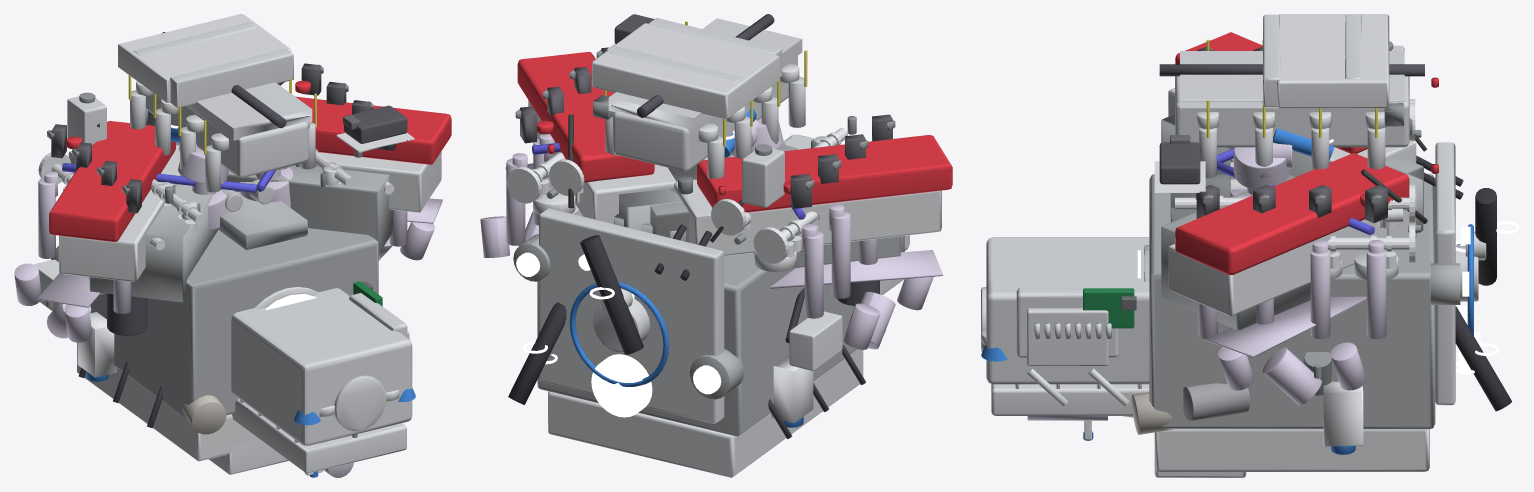
Rendered from powertrain_v8tt_dct7_complete.glb.
The picture shows the model from 3 angles, left to right: view 1: azimuth 30°, elevation 25°; view 2: azimuth 150°, elevation 25°; view 3: azimuth 270°, elevation 25°; orthographic projection. The views are drawn at different scales.
Parts seen in each view (by area): view 1: Engine_V8_Block, DCT_Gearbox_Case, Engine_V8_IntakeManifold, Engine_V8_Intercooler, Engine_V8_ValveCover_L, Engine_V8_ValveCover_R, Engine_V8_OilPan, Engine_V8_ExhaustHeader_L, Engine_V8_CylinderHead_L, Engine_V8_WiringHarness, Engine_V8_CylinderHead_R, DCT_Differential_Assembly (+10 smaller); view 2: Engine_V8_TimingCover_Accessories, Engine_V8_Block, Engine_V8_Intercooler, Engine_V8_ValveCover_L, Engine_V8_IntakeManifold, Engine_V8_OilPan, Engine_V8_ExhaustHeader_L, Engine_V8_ValveCover_R, Engine_V8_CylinderHead_L, Engine_V8_CoolantSystem, Engine_V8_Valvetrain, Engine_V8_DrySumpSystem (+7 smaller); view 3: Engine_V8_Block, DCT_Gearbox_Case, Engine_V8_IntakeManifold, Engine_V8_ValveCover_R, Engine_V8_ExhaustHeader_R, Engine_V8_Intercooler, Engine_V8_OilPan, Engine_V8_CylinderHead_R, Engine_V8_TimingCover_Accessories, DCT_Mechatronics_Unit, Engine_V8_WiringHarness, Engine_V8_CoolantSystem (+10 smaller).
Boxes of the visible parts, x1,y1,x2,y2 form: Engine_V8_Block: (89, 142, 392, 418); DCT_Gearbox_Case: (231, 288, 412, 473); Engine_V8_IntakeManifold: (130, 81, 315, 192); Engine_V8_Intercooler: (118, 14, 293, 107); Engine_V8_ValveCover_L: (47, 121, 175, 241); Engine_V8_ValveCover_R: (295, 63, 451, 164); Engine_V8_OilPan: (77, 342, 288, 474); Engine_V8_ExhaustHeader_L: (14, 178, 131, 342); Engine_V8_CylinderHead_L: (44, 145, 197, 282); Engine_V8_WiringHarness: (128, 32, 414, 154); Engine_V8_CylinderHead_R: (315, 151, 441, 212); DCT_Differential_Assembly: (294, 375, 415, 431); Engine_V8_TimingCover_Accessories: (513, 208, 743, 423); Engine_V8_Block: (537, 144, 900, 436); Engine_V8_Intercooler: (592, 18, 782, 119); Engine_V8_ValveCover_L: (697, 114, 952, 212); Engine_V8_IntakeManifold: (593, 18, 805, 178); Engine_V8_OilPan: (548, 349, 863, 477); Engine_V8_ExhaustHeader_L: (770, 211, 942, 349); Engine_V8_ValveCover_R: (515, 47, 654, 182); Engine_V8_CylinderHead_L: (674, 136, 941, 271); Engine_V8_CoolantSystem: (508, 144, 784, 404); Engine_V8_Valvetrain: (506, 128, 847, 263); Engine_V8_DrySumpSystem: (768, 280, 879, 439); Engine_V8_Block: (1149, 114, 1435, 429); DCT_Gearbox_Case: (986, 237, 1149, 415); Engine_V8_IntakeManifold: (1175, 51, 1409, 178); Engine_V8_ValveCover_R: (1175, 153, 1409, 274); Engine_V8_ExhaustHeader_R: (1198, 250, 1386, 405); Engine_V8_Intercooler: (1263, 14, 1389, 108); Engine_V8_OilPan: (1154, 429, 1429, 477); Engine_V8_CylinderHead_R: (1168, 194, 1421, 316); Engine_V8_TimingCover_Accessories: (1430, 142, 1486, 405); DCT_Mechatronics_Unit: (1027, 288, 1136, 365); Engine_V8_WiringHarness: (1154, 39, 1424, 192); Engine_V8_CoolantSystem: (1389, 41, 1519, 411).
Size of the model in its own units: 1.03 by 0.8796 by 1.06.
